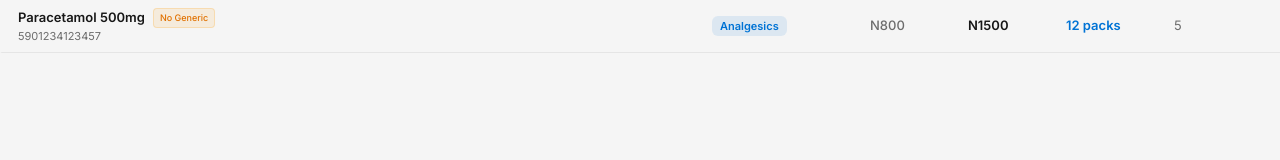
Catalog row context menu › opens with all three actions on right-click
This screenshot has width=1280, height=160.
Step 1. Right-click the button → [81, 17], box top-left (0, 0), bottom-right (1279, 53)
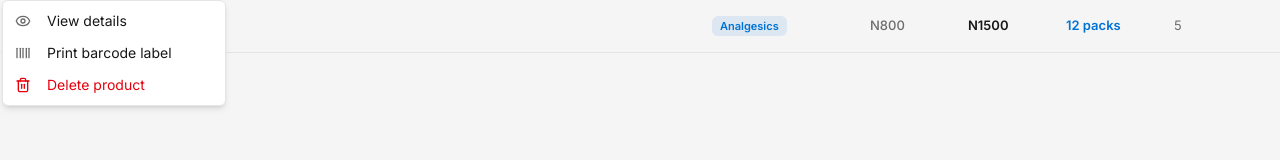
Result: the menu item "View details" is shown at top-left (15, 12), bottom-right (127, 29)
Result: the menu item "Print barcode label" is shown at top-left (15, 44), bottom-right (172, 61)
Result: the menu item "Delete product" is shown at top-left (15, 76), bottom-right (145, 93)
